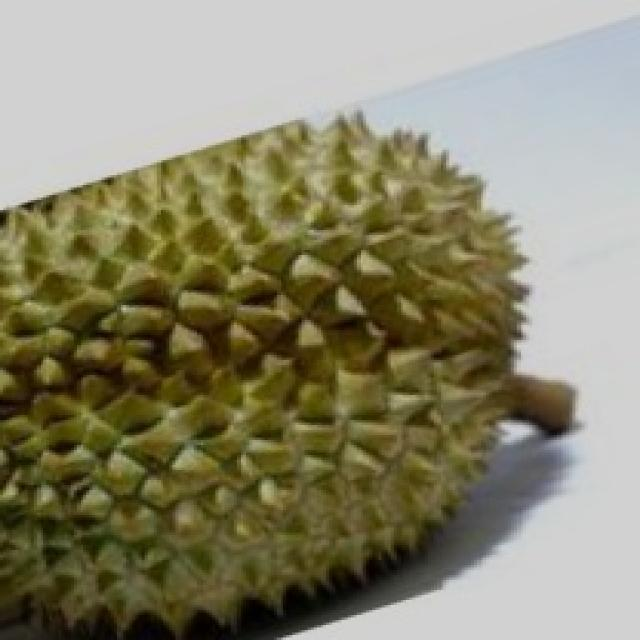fruit: (0, 207, 338, 637), (243, 265, 619, 640)
